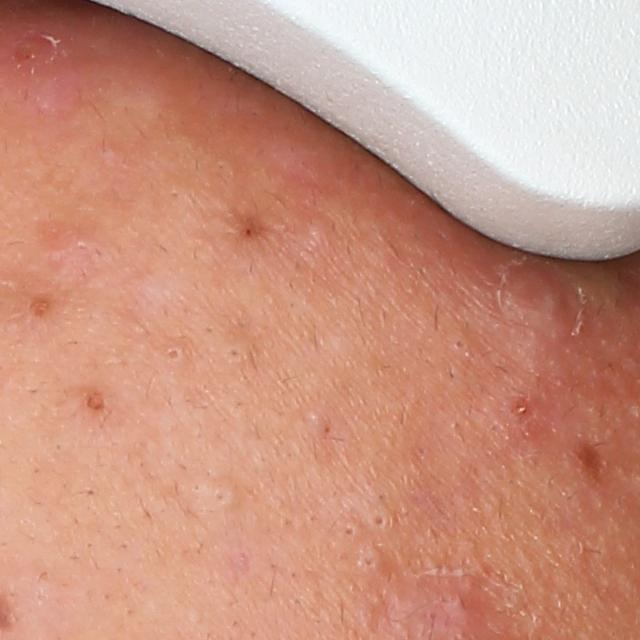comedo: (204, 481, 241, 513), (353, 544, 385, 578), (19, 294, 51, 321), (157, 343, 190, 365), (339, 522, 361, 551), (222, 342, 243, 369), (369, 508, 392, 532), (85, 388, 108, 411)
